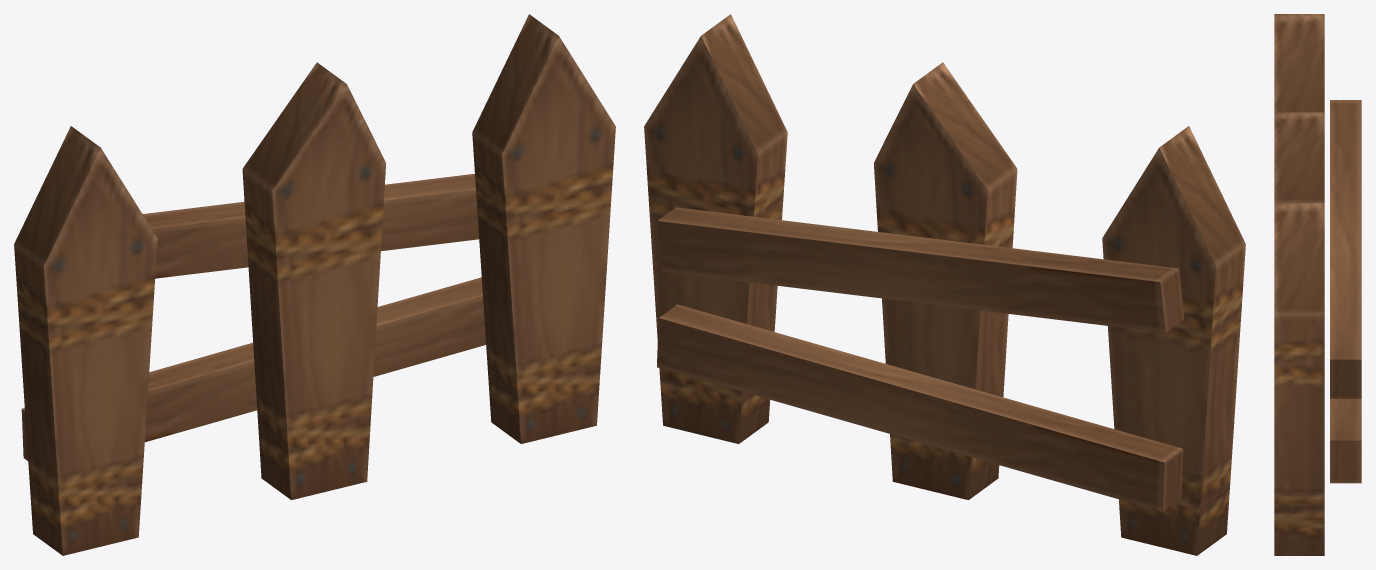
The model's file is fence_5.FBX.
3 renders of one model, left to right at view 1: azimuth 30°, elevation 25°; view 2: azimuth 150°, elevation 25°; view 3: azimuth 270°, elevation 25°, orthographic. The views are drawn at different scales.
Parts seen in each view (by area): view 1: fence_5; view 2: fence_5; view 3: fence_5.
Part boxes in pixels (<box>): fence_5: <box>14,14,615,555</box>; fence_5: <box>644,14,1245,555</box>; fence_5: <box>1274,14,1361,555</box>.
Size of the model in its own units: 33.43 by 22.48 by 5.24.
